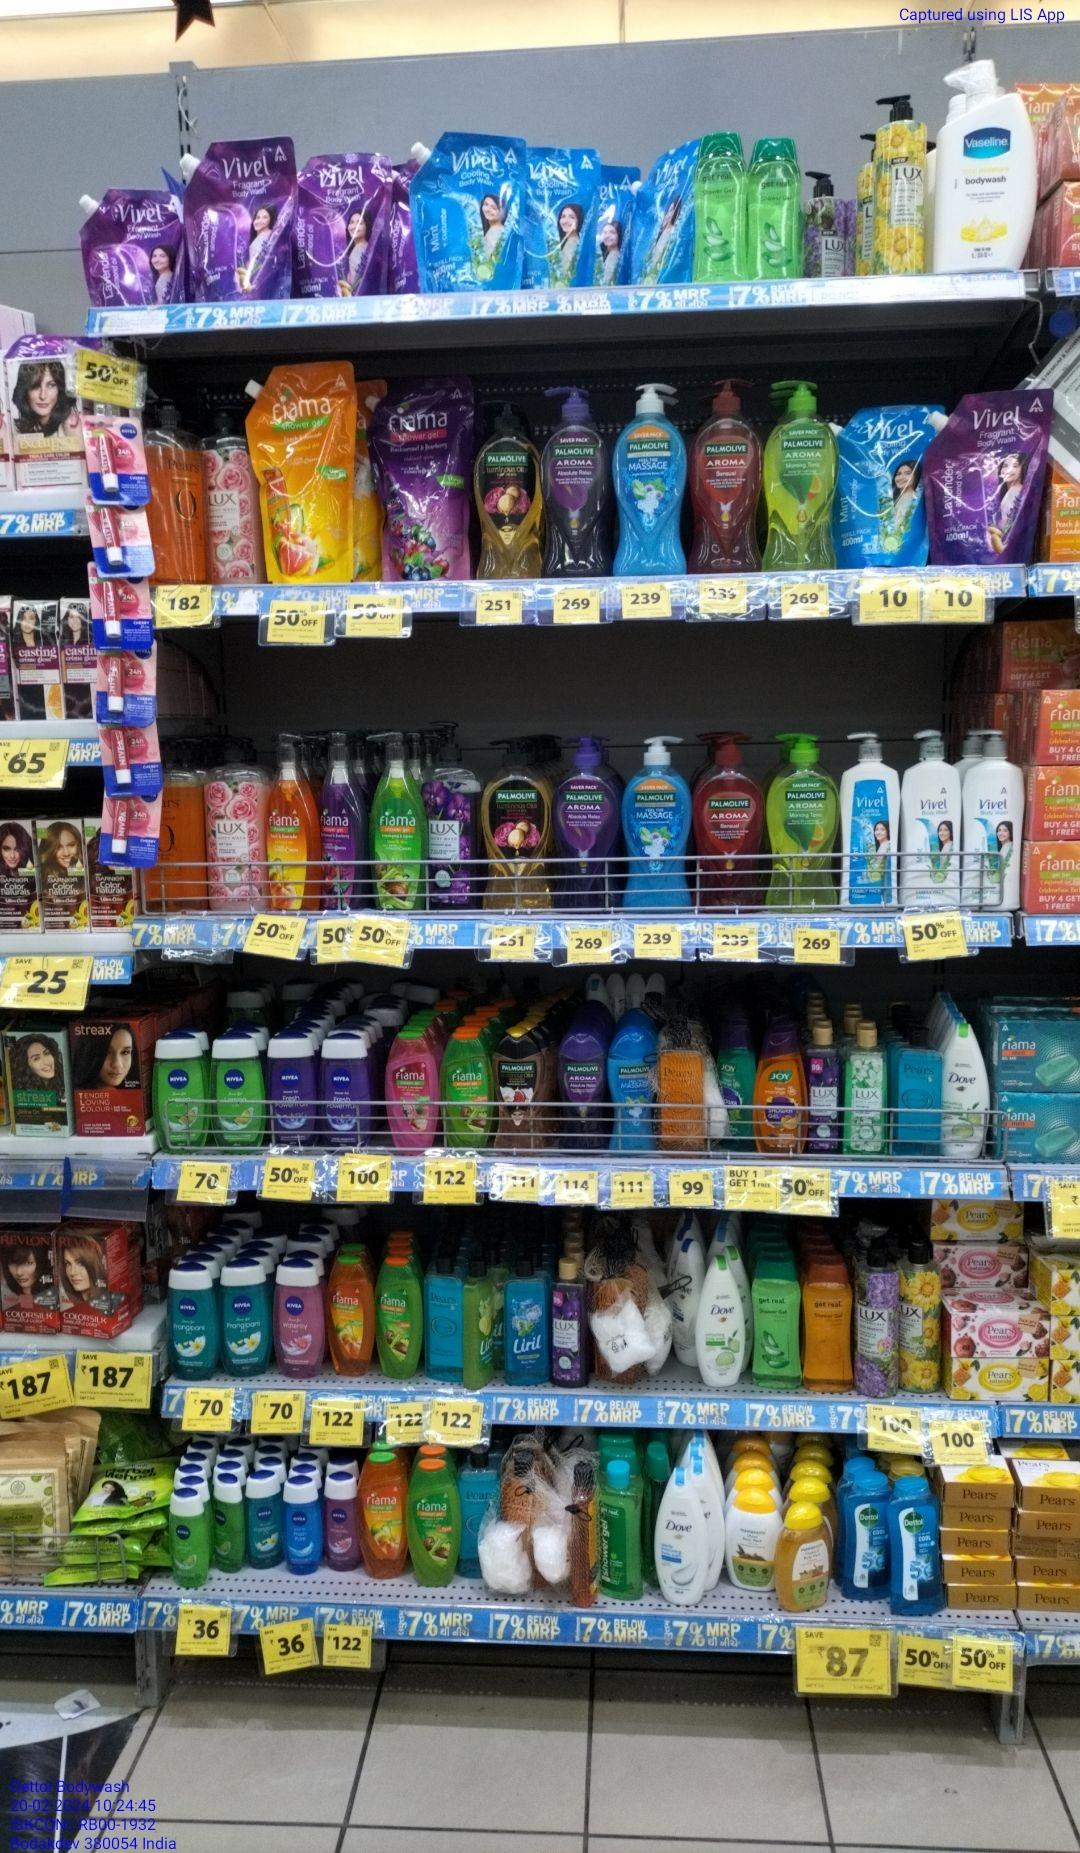Dettol_Bodywash_Cool: (887, 1476, 945, 1615), (843, 1471, 885, 1601)
Dove_Gentle_Exfoliating_Body_Wash_250ML: (654, 1473, 705, 1605)
Dove_Refreshing_Body_Wash_250ML: (945, 1024, 990, 1160), (697, 1254, 743, 1387)
Fiama_Shower_Gel_Lemongrass_and_Jojoba_250ML: (408, 1456, 460, 1587), (440, 1029, 491, 1148), (375, 1257, 422, 1379)
Fiama_Shower_Gel_Patchouli_and_Macadamia_250ML: (388, 1029, 436, 1151)
Fiama_Shower_Gel_Peach_and_Avocado_250ML: (328, 1250, 370, 1379), (361, 1456, 402, 1574)
Get_Real_Shower_Gel_Moisturising_Glycerin_300ML: (801, 1259, 852, 1390)
Joy_Shower_Gel_Mandarin_and_Lemongrass_250ML: (753, 1031, 805, 1154)
Joy_Shower_Gel_Mint_and_Eucalyptus_250ML: (720, 1016, 750, 1153)
Liril_Cooling_Mint_Body_Wash_250ML: (503, 1262, 549, 1385)
Lux_Black_Orchid_Scent_and_Juniper_Oil_Body_Wash_245ML: (552, 1259, 588, 1388), (806, 1023, 841, 1155)
Lux_Body_Wash_Skin_Detox_Freesia_Scent_and_Alove_Vera_245ML: (845, 1027, 887, 1157)
Nivea_Shower_Gel_Frangipani_and_Oil_250ML: (166, 1271, 219, 1380), (221, 1259, 271, 1372)
Nivea_Shower_Gel_Fresh_Powerfruit_250ML: (269, 1034, 320, 1145), (324, 1034, 372, 1150)
Nivea_Shower_Gel_Lemon_and_Oil_250ML: (153, 1032, 210, 1155), (212, 1038, 265, 1151)
Nivea_Shower_Gel_Waterlily_and_Oil_250ML: (275, 1263, 324, 1379)
Palmolive_Aroma_Moments_Feel_The_Massage_Shower_Gel_250ML: (608, 1024, 656, 1154)
Palmolive_Aroma_Relax_250ML: (557, 1033, 603, 1153)
Palmolive_Luminous_Oils_With_White_Orchid_Shower_Gel_250ML: (494, 1033, 545, 1153)
Pears_Pure_Glycerin_and_Mint_Extracts_Body_Wash_250ML: (890, 1027, 941, 1163), (427, 1257, 463, 1384)
